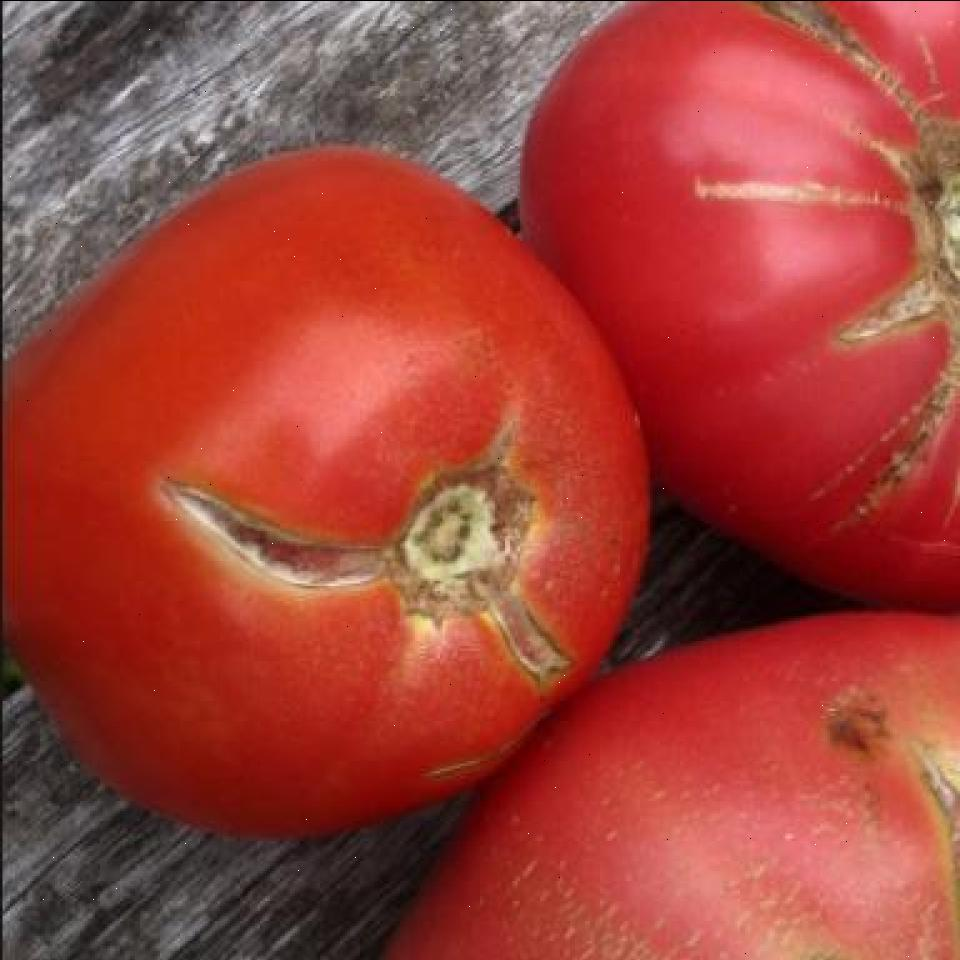Healthy: (725, 0, 960, 165)
